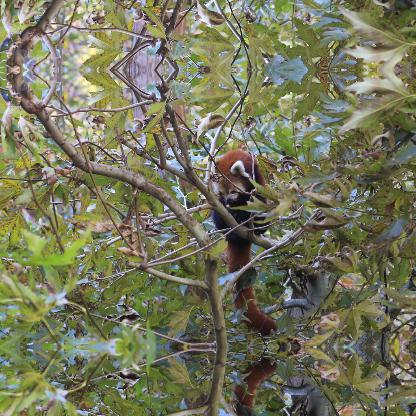Monkey: (210, 147, 276, 333), (210, 359, 277, 415)
